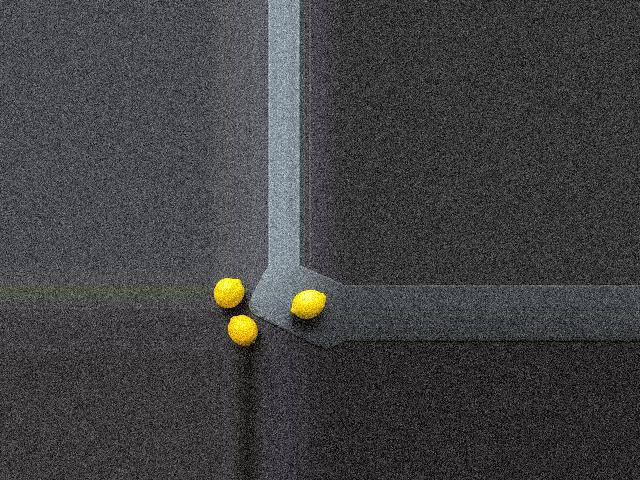lemon: (211, 276, 247, 309)
